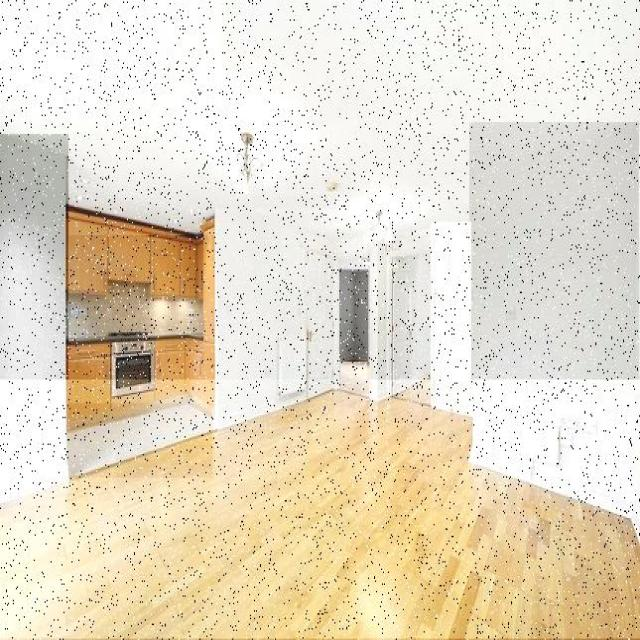Wall: (0, 380, 640, 639), (0, 1, 640, 235), (470, 123, 639, 533), (215, 210, 367, 427), (0, 135, 68, 502), (68, 405, 212, 478), (431, 223, 471, 414), (340, 270, 368, 362), (341, 364, 367, 396)
